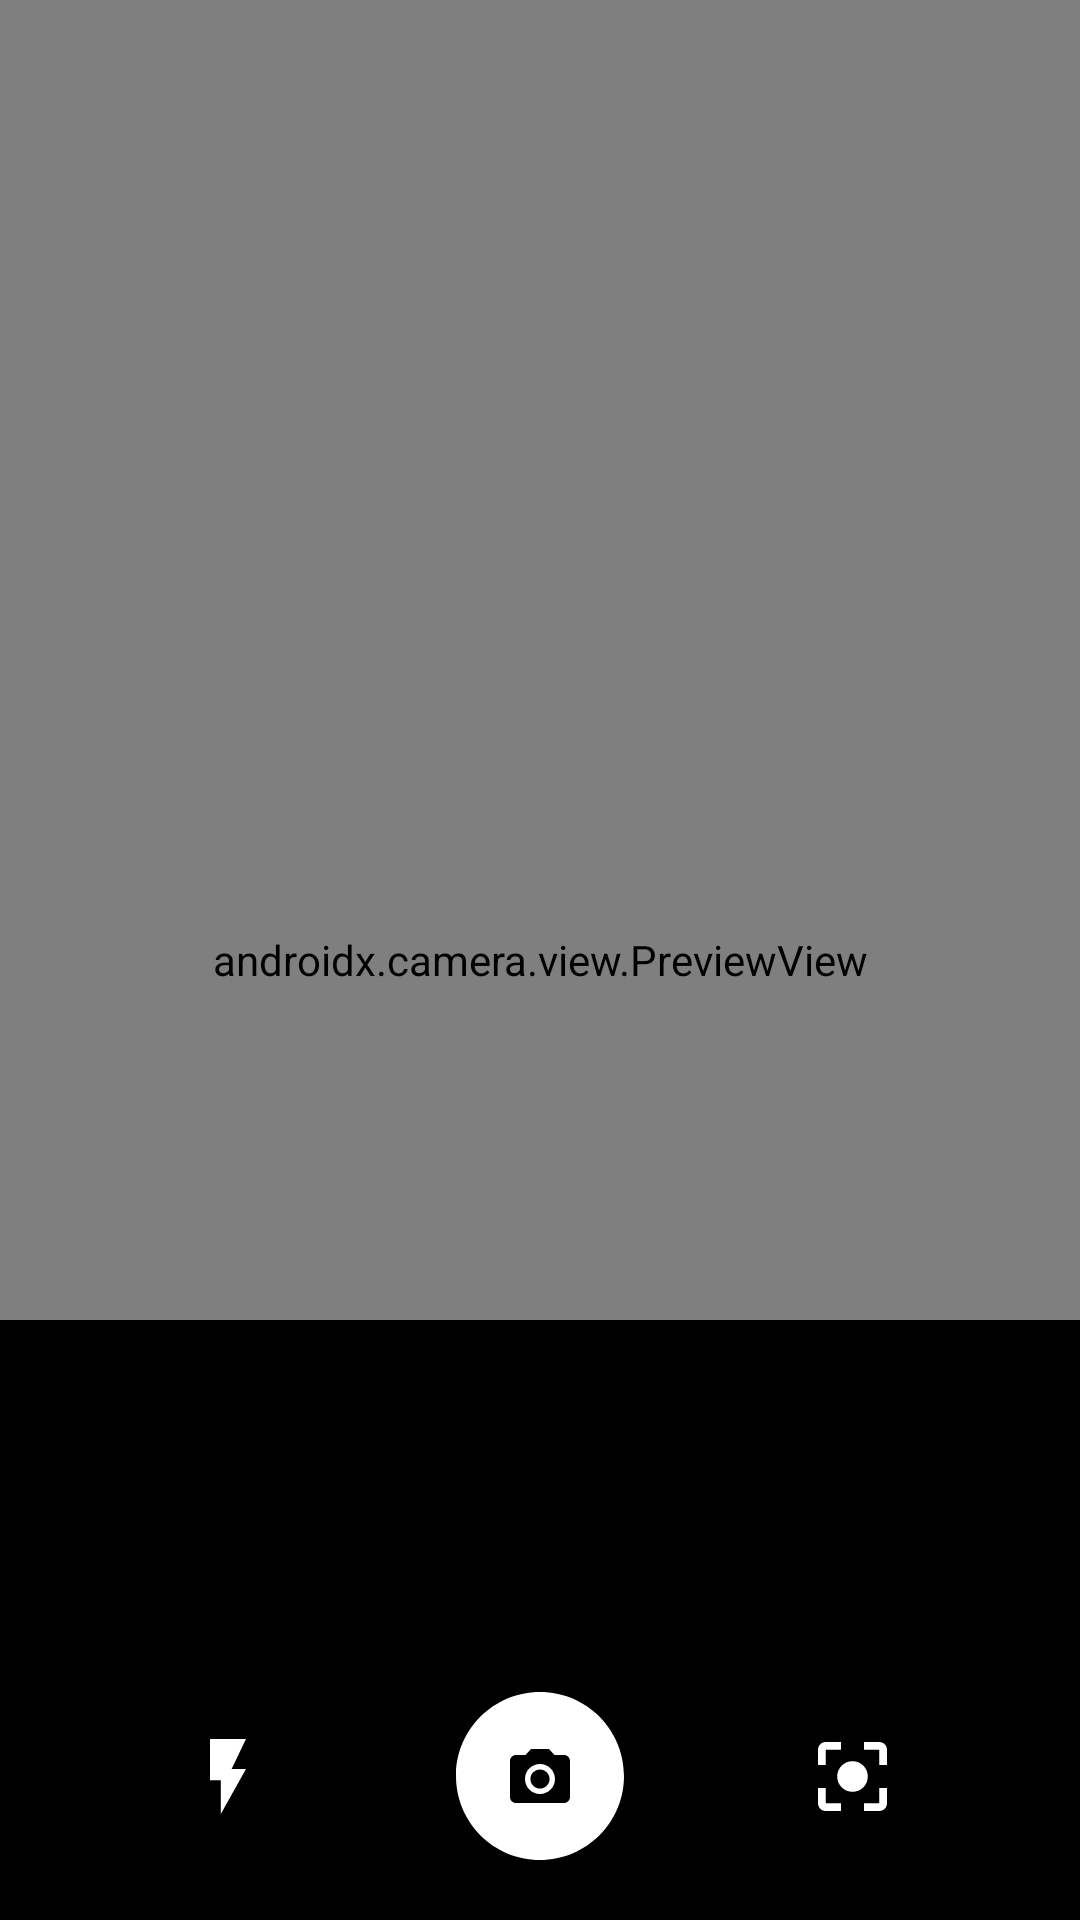

Screen size 1080w x 1920h. Icon name, then its center in pixels as (x=x, y=y):
flash: (x=228, y=1776)
focus: (x=852, y=1776)
take picture: (x=540, y=1776)
